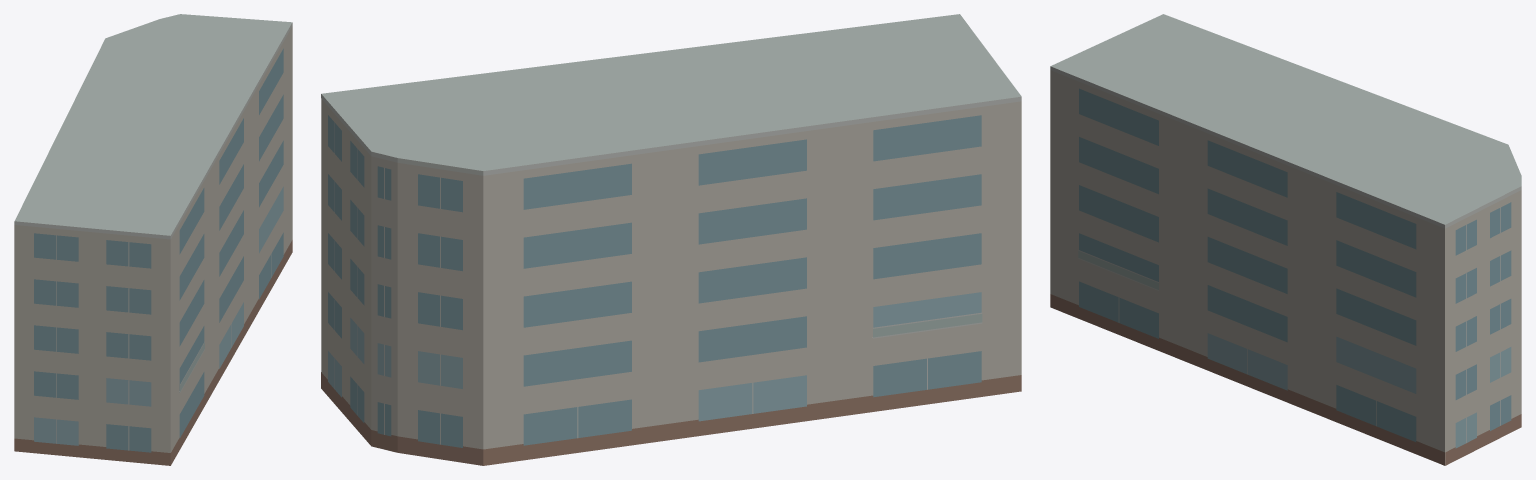
File: survey-upis-32883681.glb
3 renders of one model, left to right at view 1: azimuth 30°, elevation 25°; view 2: azimuth 150°, elevation 25°; view 3: azimuth 270°, elevation 25°, orthographic. The views are drawn at different scales.
Parts seen in each view (by area): view 1: survey-upis-32883681.tmp; view 2: survey-upis-32883681.tmp; view 3: survey-upis-32883681.tmp.
Boxes of the visible parts, x1,y1,x2,y2 form: survey-upis-32883681.tmp: (14,14,292,465); survey-upis-32883681.tmp: (321,14,1021,465); survey-upis-32883681.tmp: (1050,14,1521,465).
Bounding box in the file's own units: 28.71 × 15.3 × 27.12.
